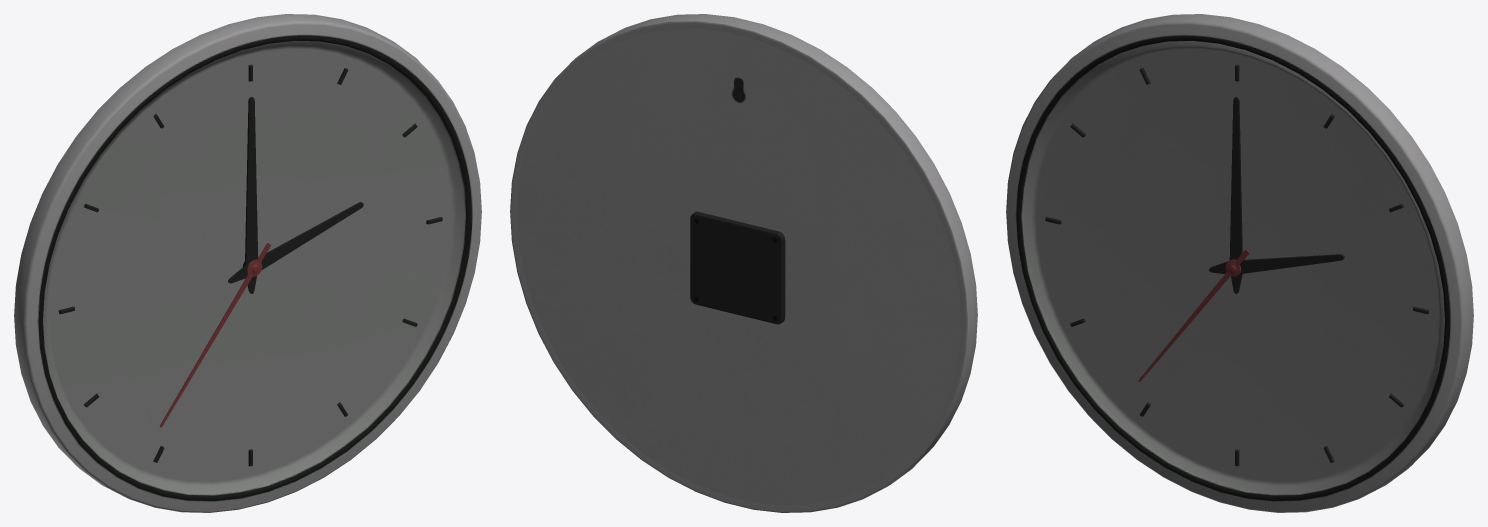
The model's file is Без имени.fbx.
3 renders of one model, left to right at view 1: azimuth 30°, elevation 25°; view 2: azimuth 150°, elevation 25°; view 3: azimuth 330°, elevation 25°, orthographic.
Visible parts, largest first — view 1: node_id30; view 2: node_id30; view 3: node_id30.
Boxes of the visible parts, x1,y1,x2,y2 form: node_id30: [14, 14, 481, 512]; node_id30: [510, 14, 977, 512]; node_id30: [1006, 14, 1473, 512].
Size of the model in its own units: 0.512 by 0.511 by 0.0308.
Materials: 1 (1 with a texture image).
